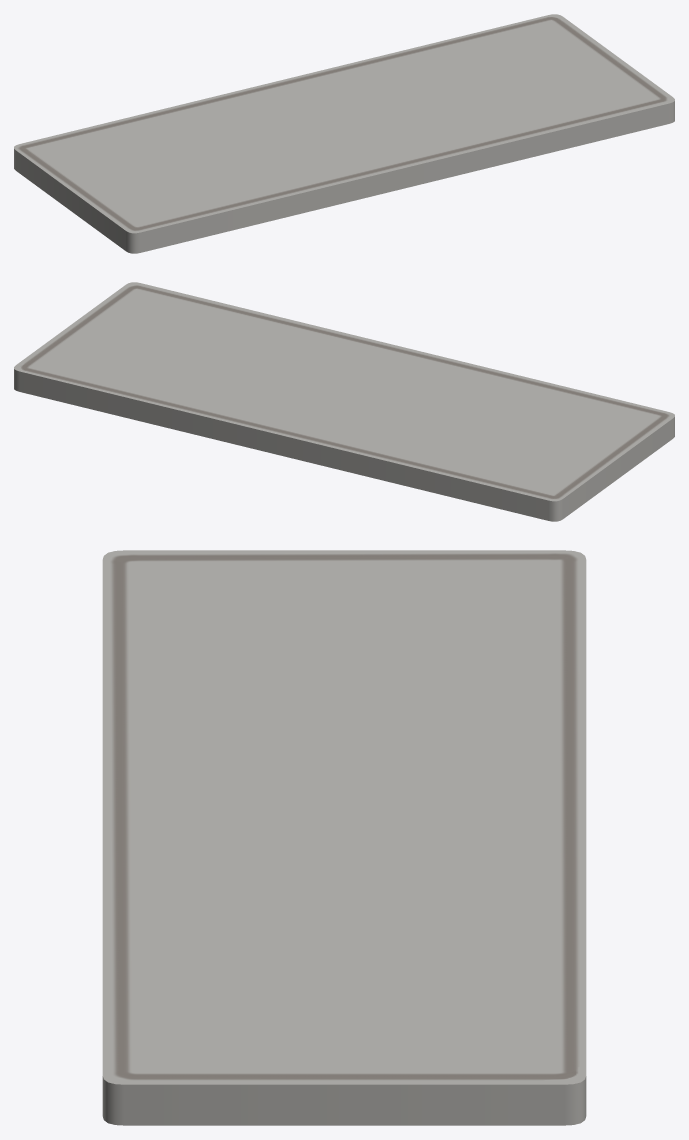
Rendered from longplate.glb.
The picture shows the model from 3 angles, top to bottom: view 1: azimuth 30°, elevation 25°; view 2: azimuth 150°, elevation 25°; view 3: azimuth 270°, elevation 25°; orthographic projection. The views are drawn at different scales.
Parts seen in each view (by area): view 1: longplate; view 2: longplate; view 3: longplate.
Boxes of the visible parts, x1=… form: longplate: x1=14, y1=14, x2=674, y2=253; longplate: x1=14, y1=282, x2=674, y2=521; longplate: x1=102, y1=550, x2=586, y2=1125.
Size of the model in its own units: 0.599 by 0.0214 by 0.2291.
1 material, 1 textured.
